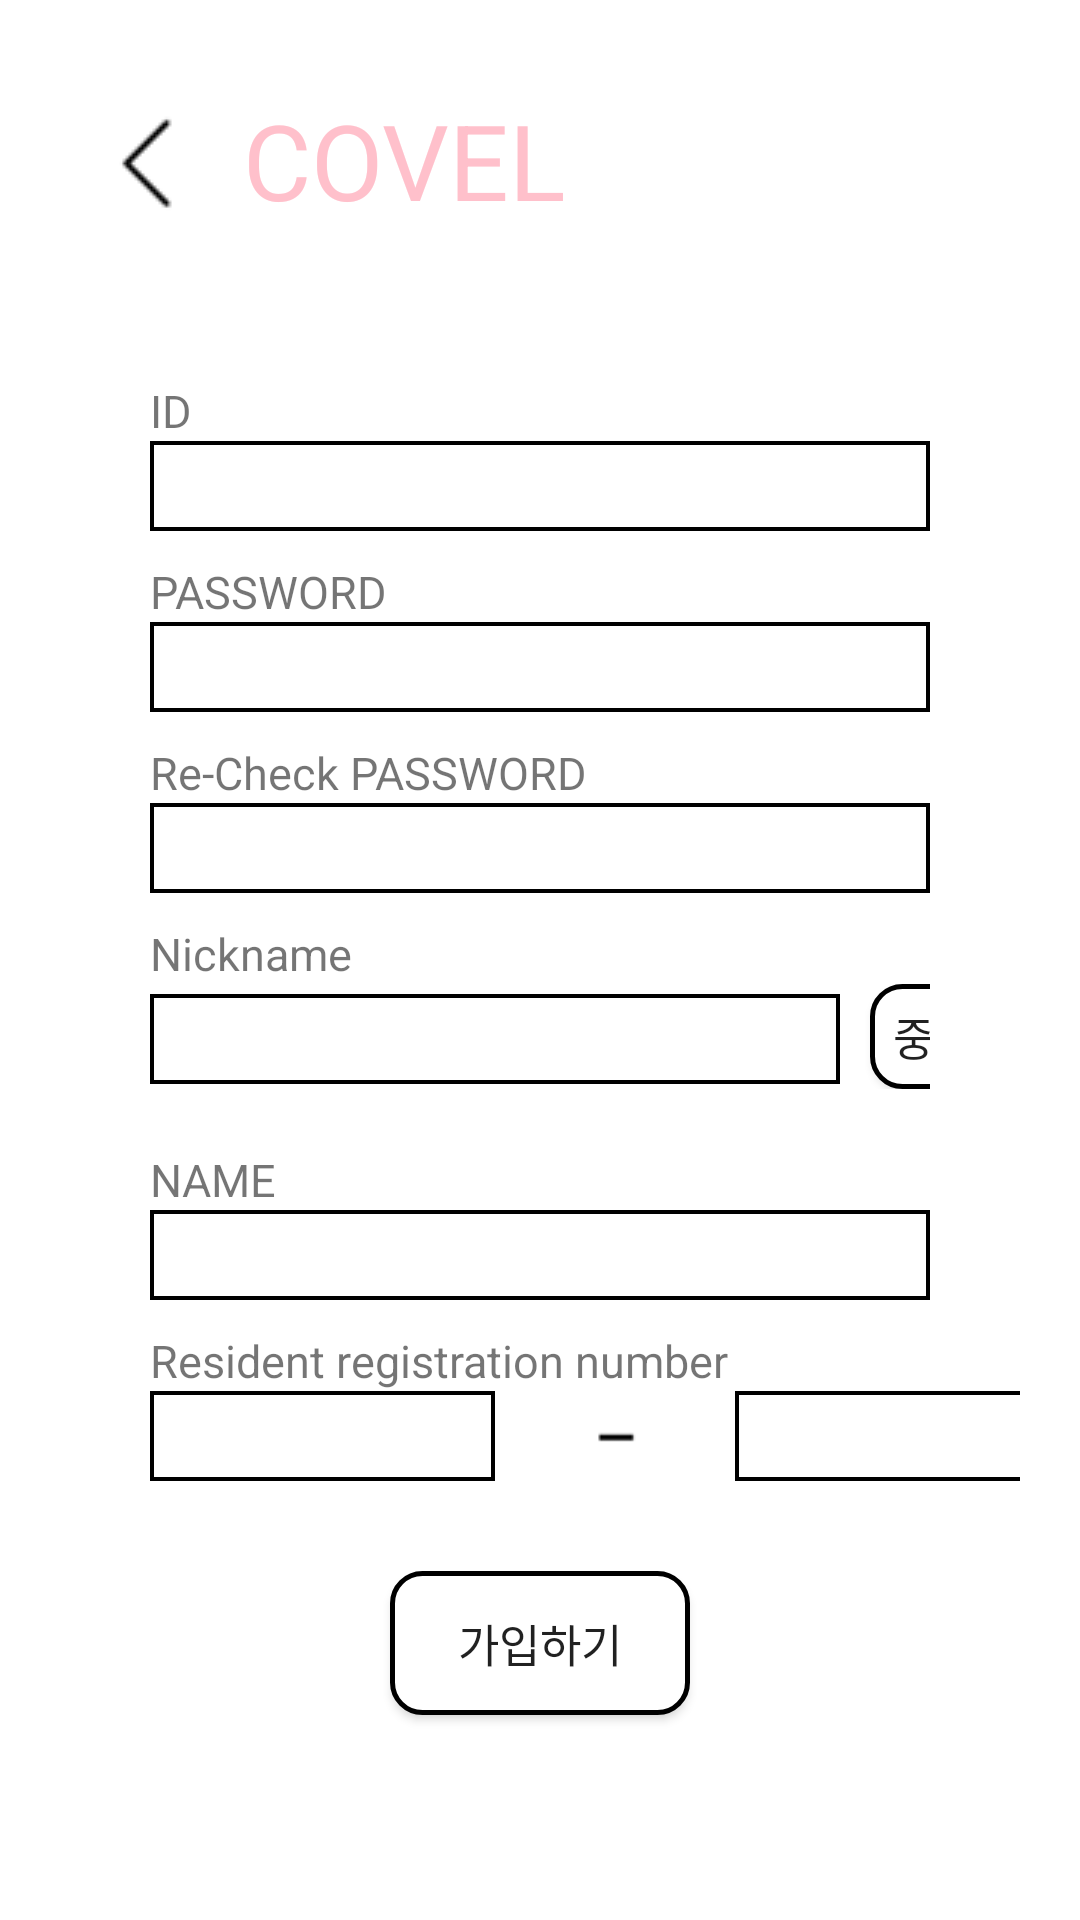

Icon click points for this 1080px×1920px phone screenshot, format [x,y]:
backbutton: [147,163]
